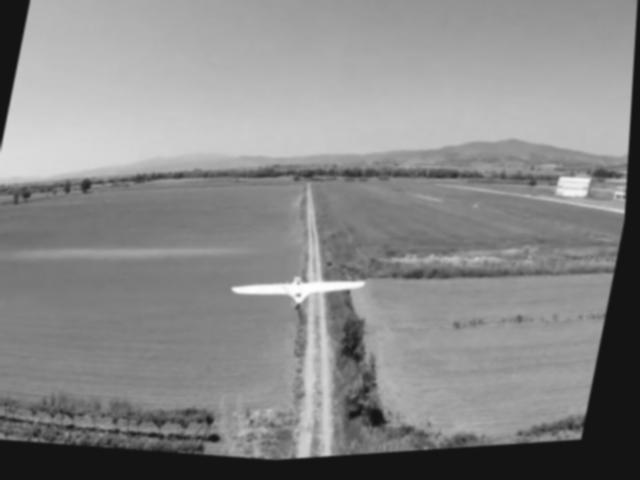hedef: (227, 261, 376, 334)
